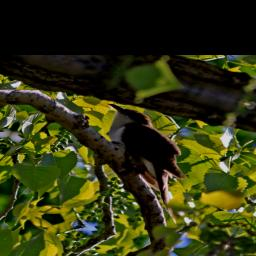Cuckoo: (56, 101, 220, 215)
